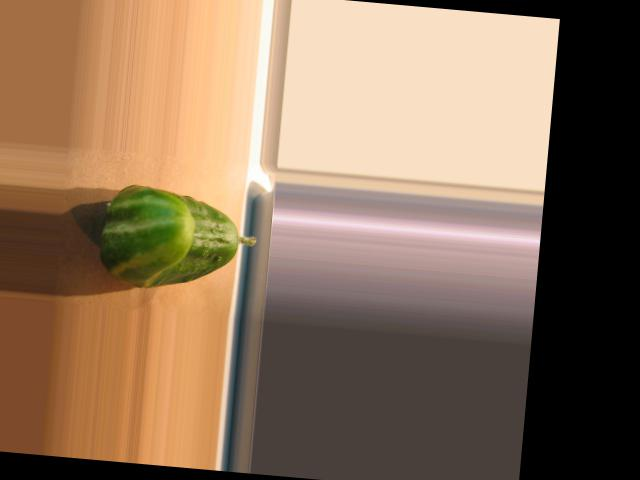cucumber: (96, 181, 261, 296)
